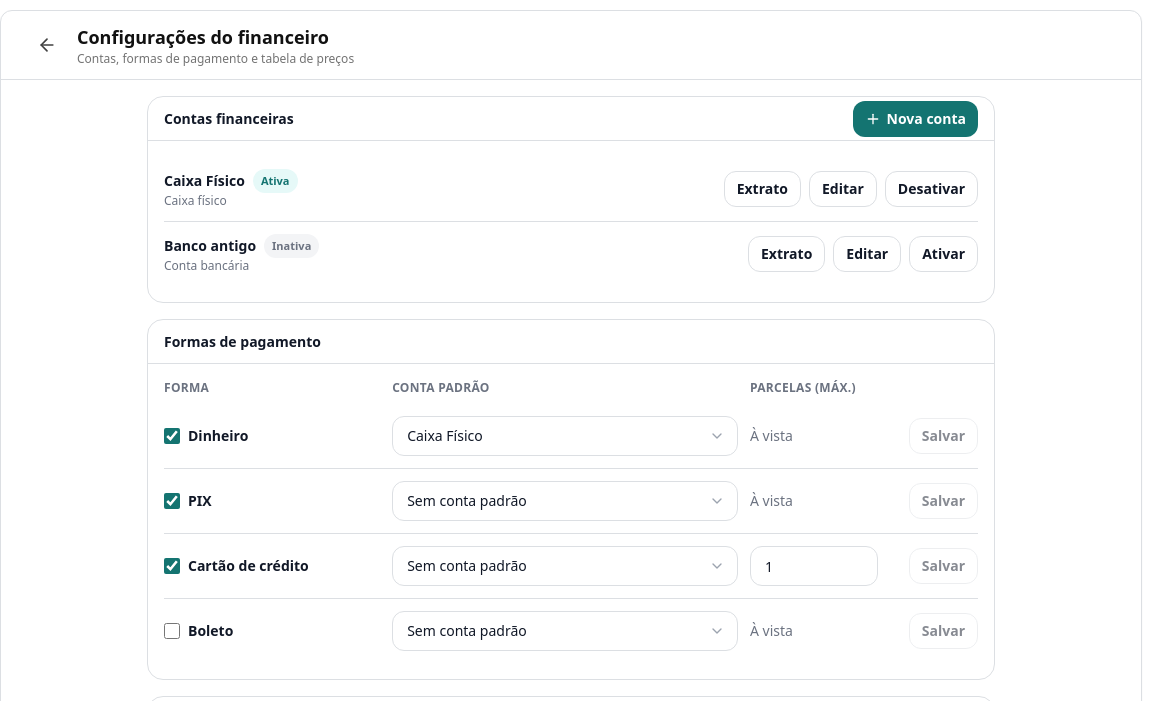
Test: FinanceSettings › desativa uma conta ativa e avisa
Click the button with aria-label "Desativar Caixa Físico".
click(931, 189)  # box left=885, top=171, right=978, bottom=207
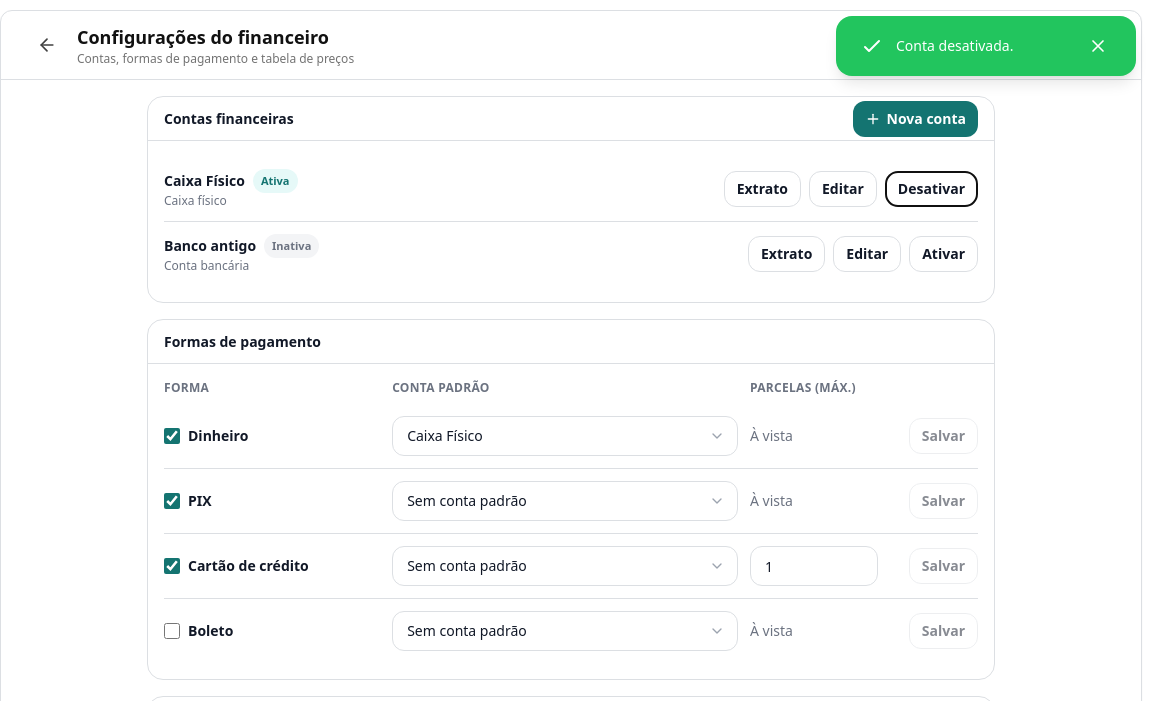
Check: the text "Conta desativada." is shown, box left=896, top=36, right=1013, bottom=55
